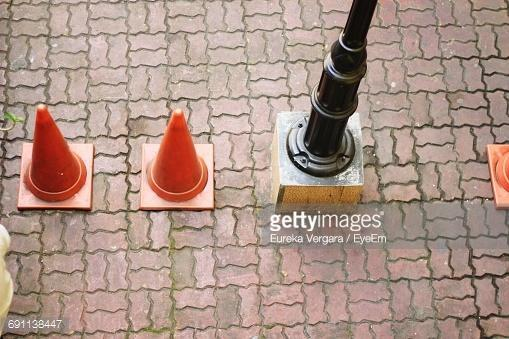Cone: (17, 102, 93, 211), (141, 106, 214, 212)
